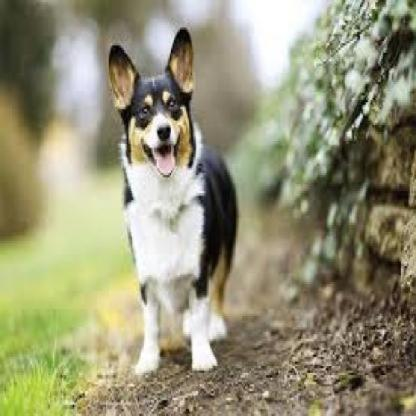dog: (107, 26, 238, 378)
